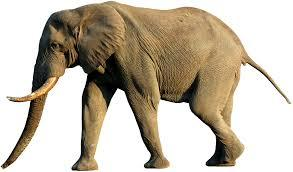elephant: (2, 1, 278, 169)
